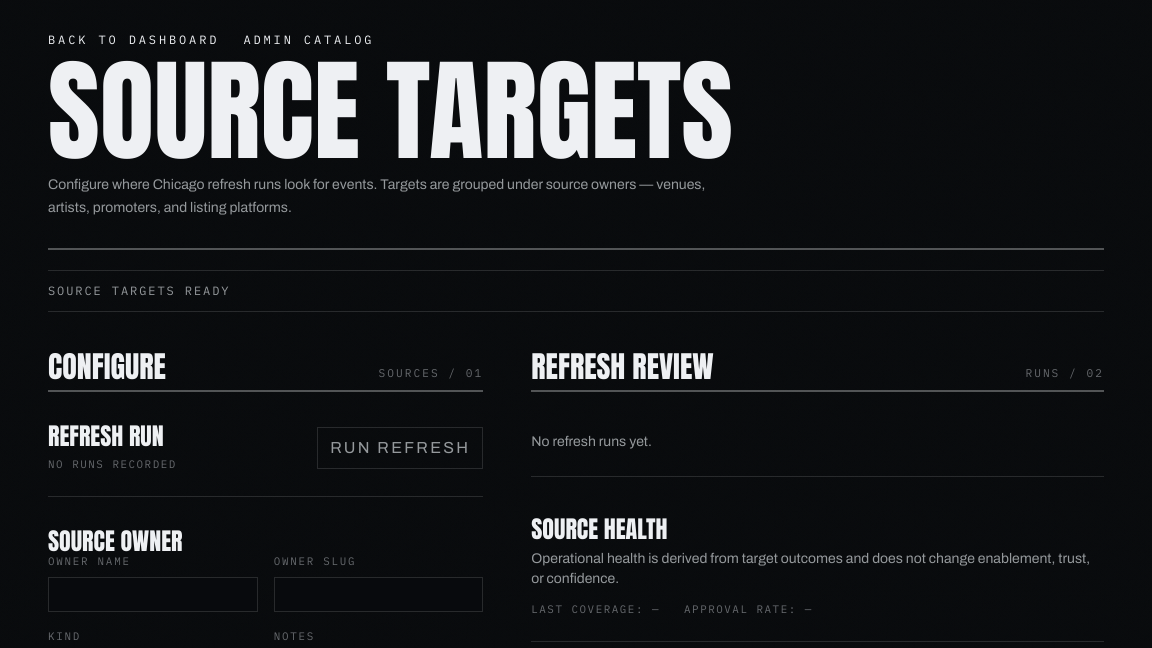
Test: AdminSourceTargets › shows target outcomes immediately after a manual refresh
Click the button "Run refresh": (400, 448) [317,427,483,469]
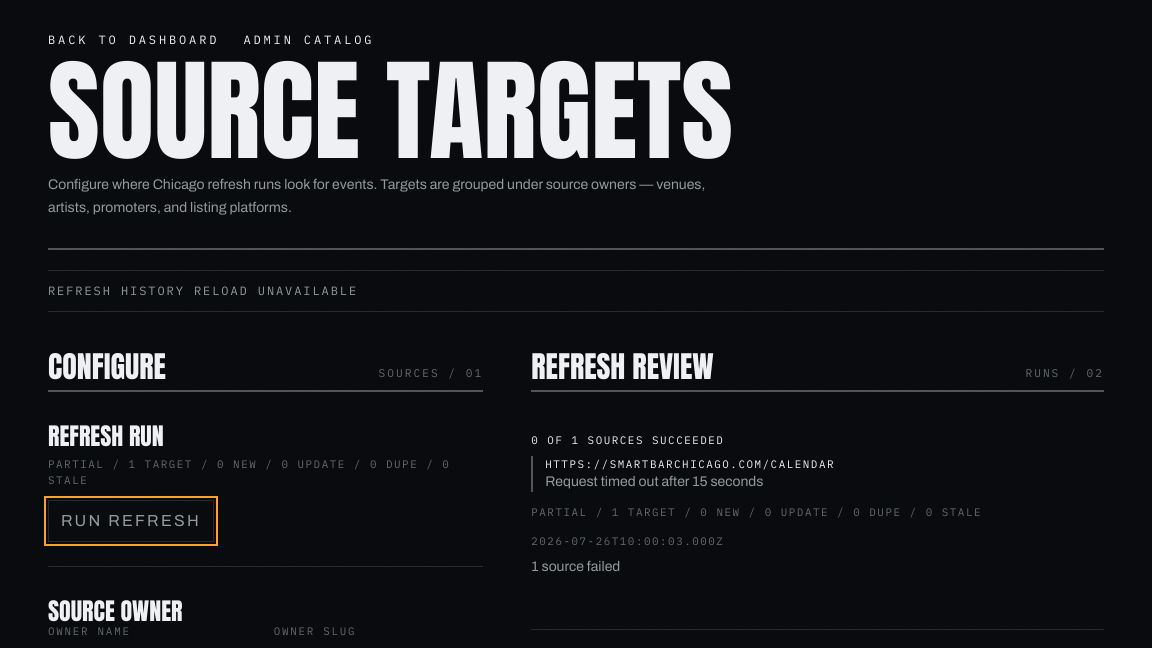
expect the text "0 of 1 sources succeeded" is shown: met, box [531,433,724,447]
expect the list item with aria-label "smartbarchicago.com/calendar failed target" shows "Request timed out after 15 seconds": met, box [545,474,763,489]
